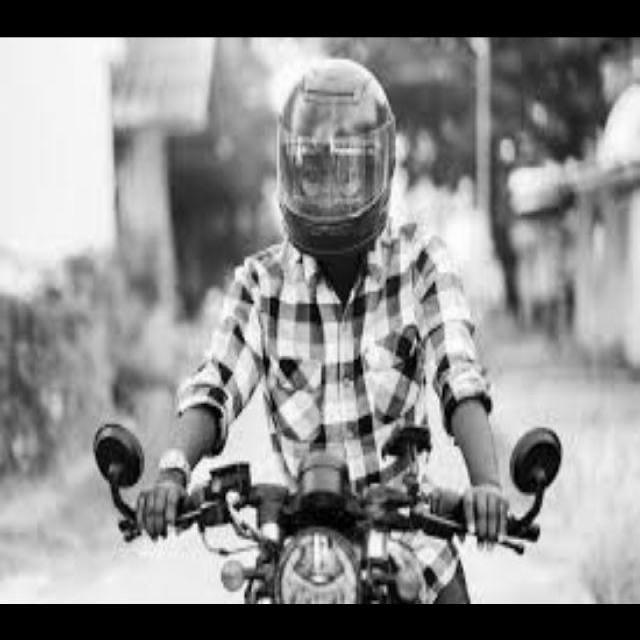5_casco: (266, 65, 409, 271)
